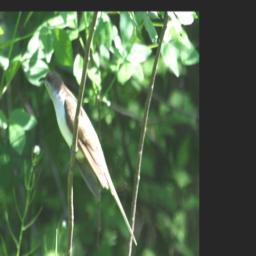Cuckoo: (39, 70, 139, 249)
